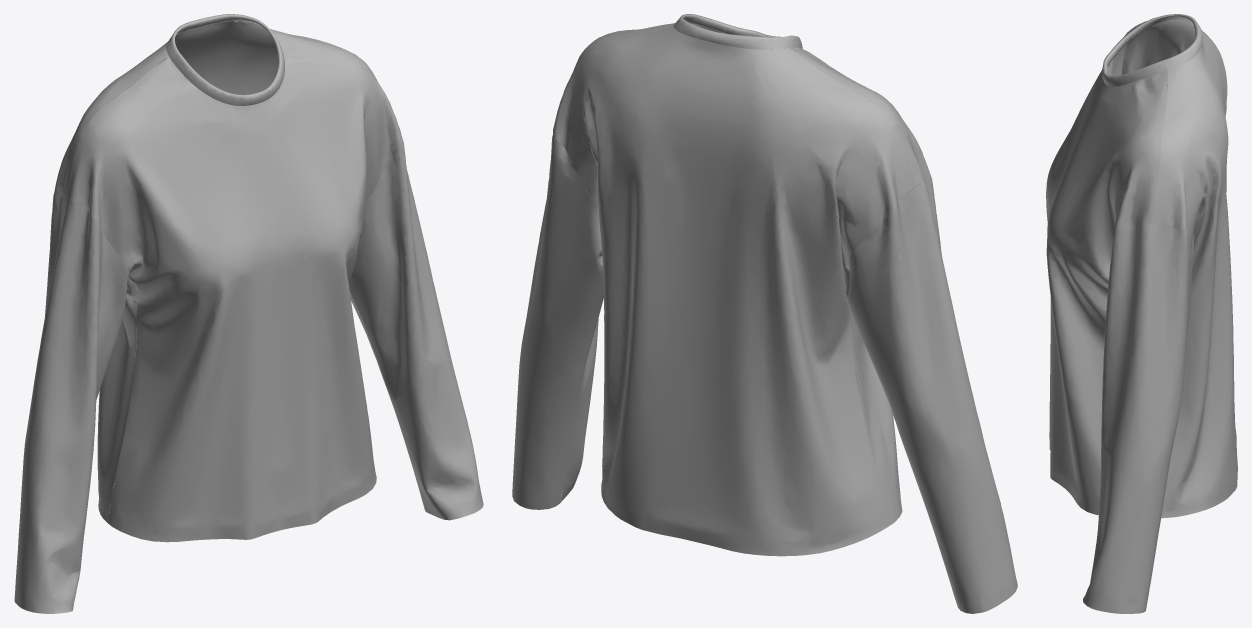
File: tshirt_long_two.glb
3 renders of one model, left to right at view 1: azimuth 30°, elevation 25°; view 2: azimuth 150°, elevation 25°; view 3: azimuth 270°, elevation 25°, orthographic. The views are drawn at different scales.
Visible parts, largest first — view 1: torso, hands; view 2: torso, hands; view 3: torso, hands.
Part boxes in pixels (x1=…): torso: x1=53, y1=14, x2=403, y2=542; hands: x1=14, y1=144, x2=483, y2=613; torso: x1=553, y1=14, x2=931, y2=556; hands: x1=512, y1=134, x2=1017, y2=613; torso: x1=1046, y1=14, x2=1237, y2=518; hands: x1=1083, y1=85, x2=1192, y2=613.
Bounding box in the file's own units: 0.7029 × 0.7531 × 0.27.
1 material, 1 textured.
